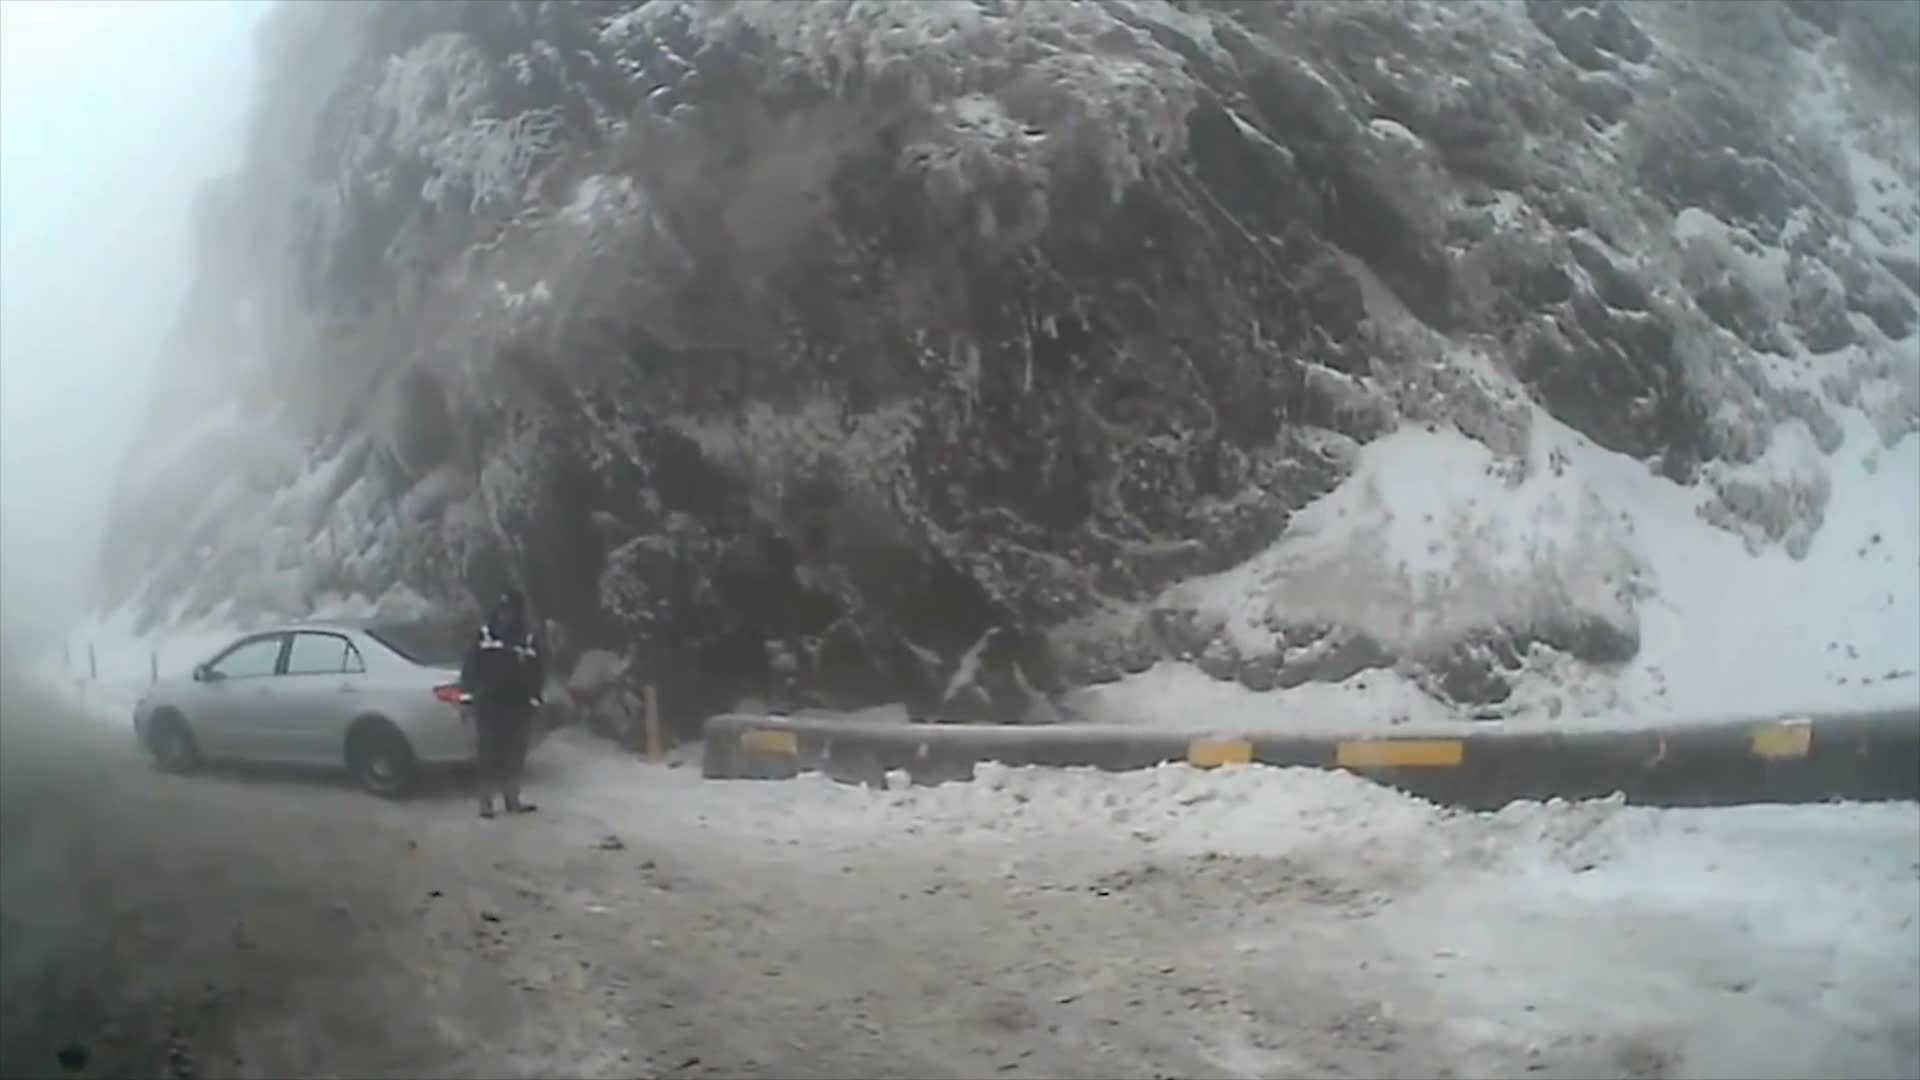pedestrian: (459, 585, 543, 816)
vehicle: (130, 617, 546, 804)
